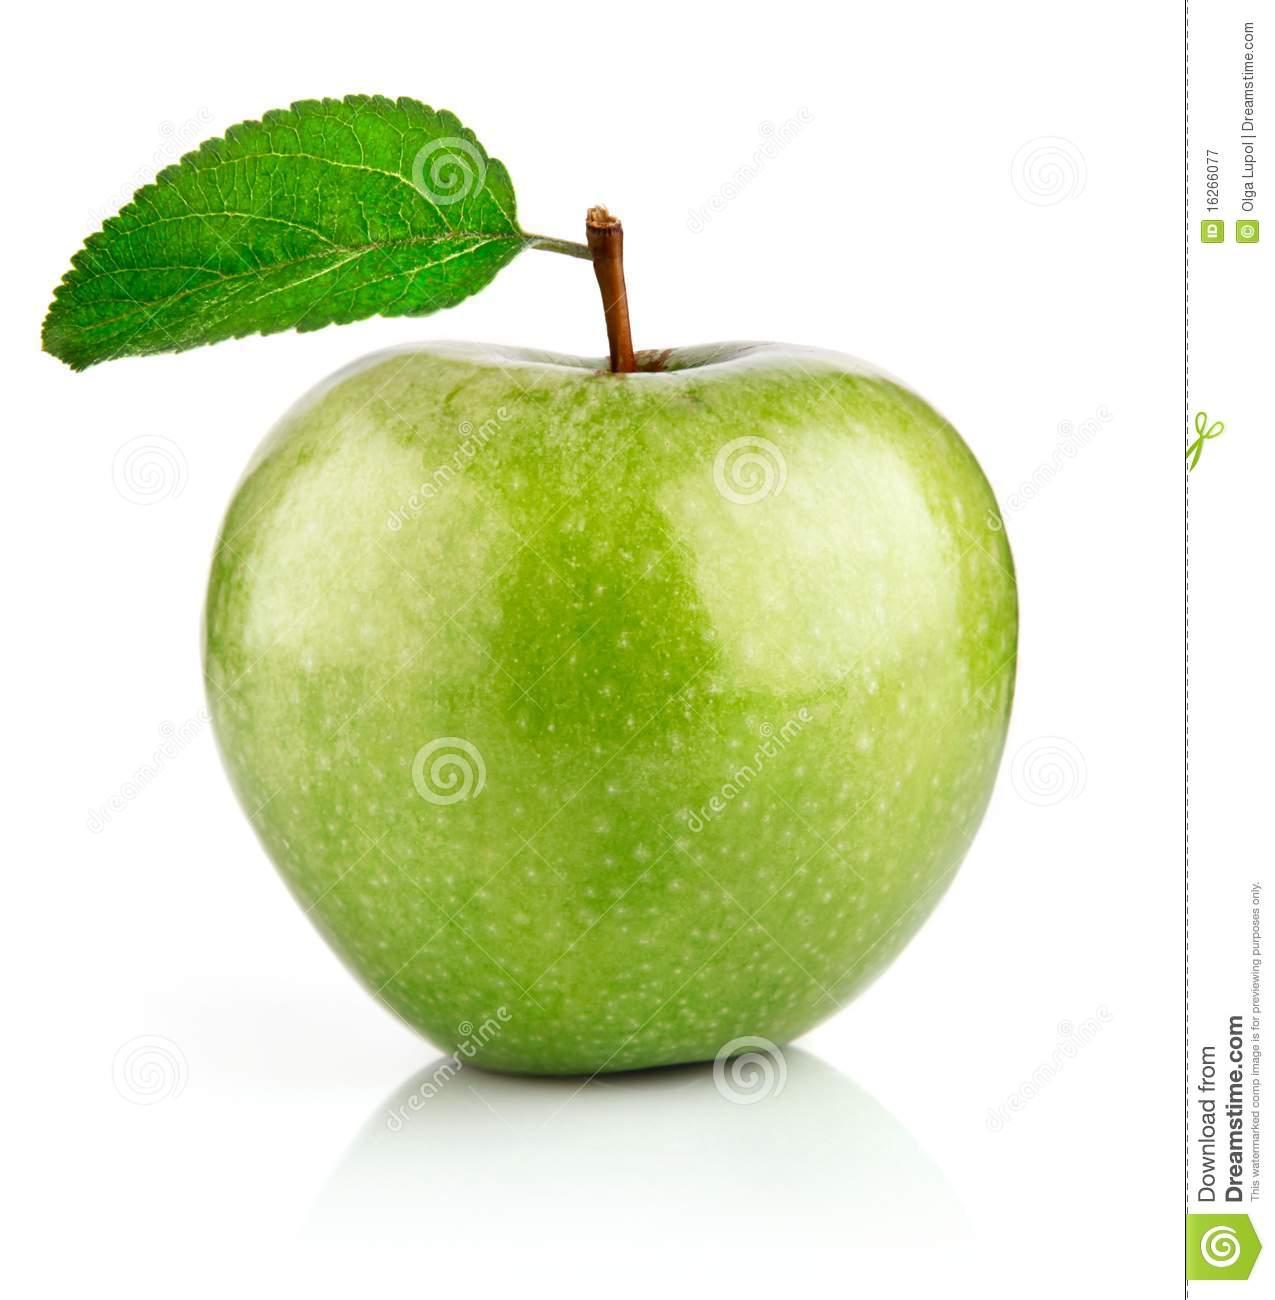Apple leaf: (32, 75, 541, 395)
